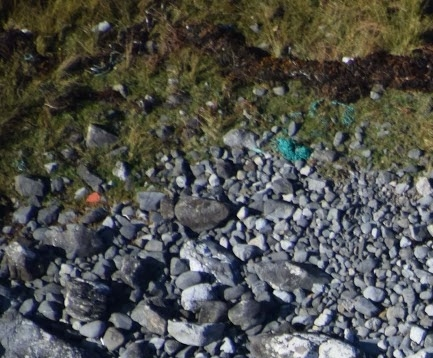net: (220, 120, 273, 158), (307, 94, 355, 125), (276, 135, 314, 162)
white_in_green: (72, 177, 116, 217)
